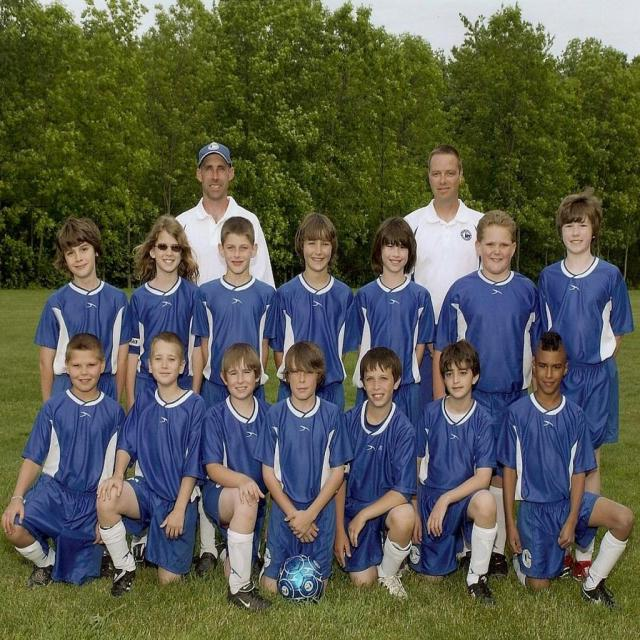Face: (46, 225, 107, 285), (63, 342, 109, 404), (556, 203, 604, 260), (475, 215, 519, 277), (296, 222, 340, 279), (194, 141, 232, 204), (148, 337, 190, 394), (283, 351, 323, 410), (220, 218, 256, 281), (380, 227, 419, 285), (531, 340, 569, 398), (426, 149, 461, 210), (361, 357, 398, 412), (150, 223, 188, 275), (440, 351, 477, 401), (223, 349, 259, 397)
